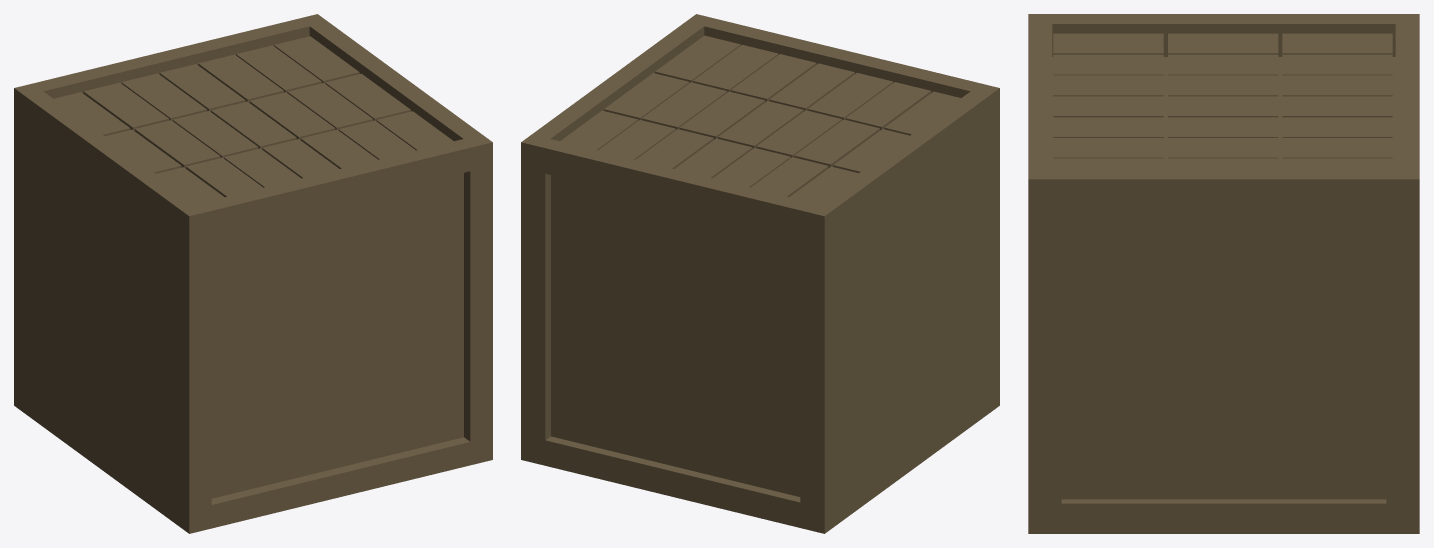
The model's file is crate01_placeholder.fbx.
3 views of the same model, side by side, from view 1: azimuth 30°, elevation 25°; view 2: azimuth 150°, elevation 25°; view 3: azimuth 270°, elevation 25° (orthographic). The views are drawn at different scales.
Visible parts, largest first — view 1: Cube.016; view 2: Cube.016; view 3: Cube.016.
Boxes of the visible parts, box(x1,y1,x2,y2) form: Cube.016: box(14, 14, 492, 533); Cube.016: box(521, 14, 999, 533); Cube.016: box(1028, 14, 1419, 533).
Size of the model in its own units: 607 by 607 by 607.
